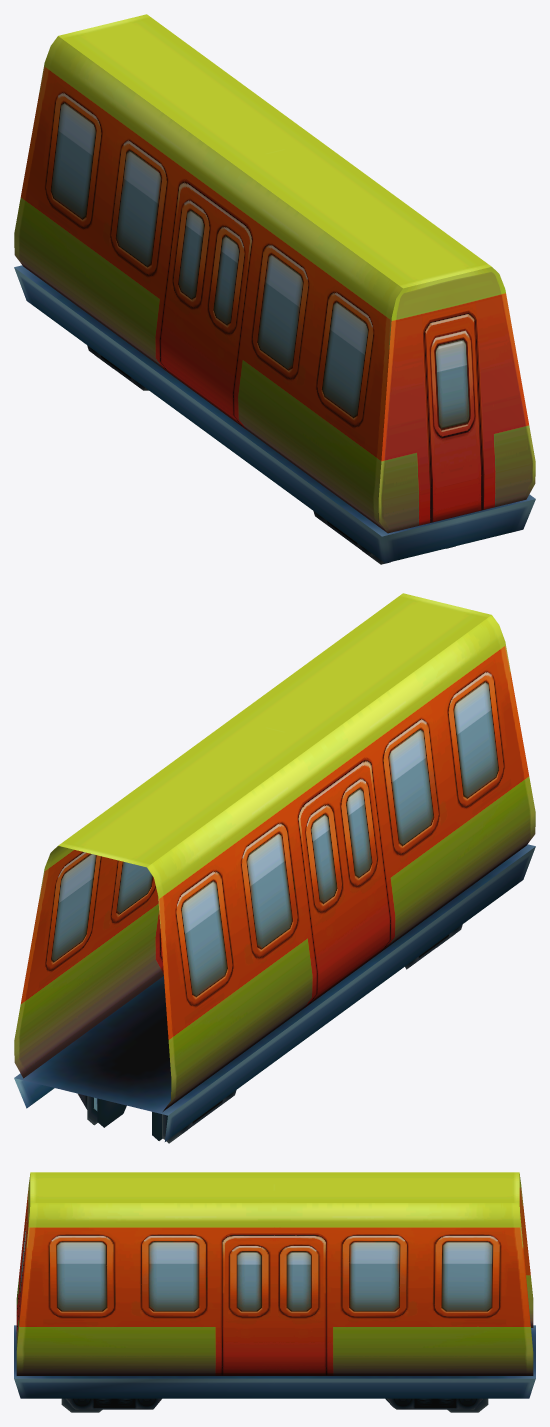
The model's file is train4.glb.
3 renders of one model, top to bottom at view 1: azimuth 30°, elevation 25°; view 2: azimuth 150°, elevation 25°; view 3: azimuth 270°, elevation 25°, orthographic. The views are drawn at different scales.
Visible parts, largest first — view 1: Subway Surfers Train; view 2: Subway Surfers Train; view 3: Subway Surfers Train.
Boxes of the visible parts, box(x1,y1,x2,y2) form: Subway Surfers Train: box(14, 14, 535, 564); Subway Surfers Train: box(14, 593, 535, 1143); Subway Surfers Train: box(14, 1172, 535, 1412).
Bounding box in the file's own units: 2.45 × 4.45 × 9.92.
Materials: 1 (1 with a texture image).
